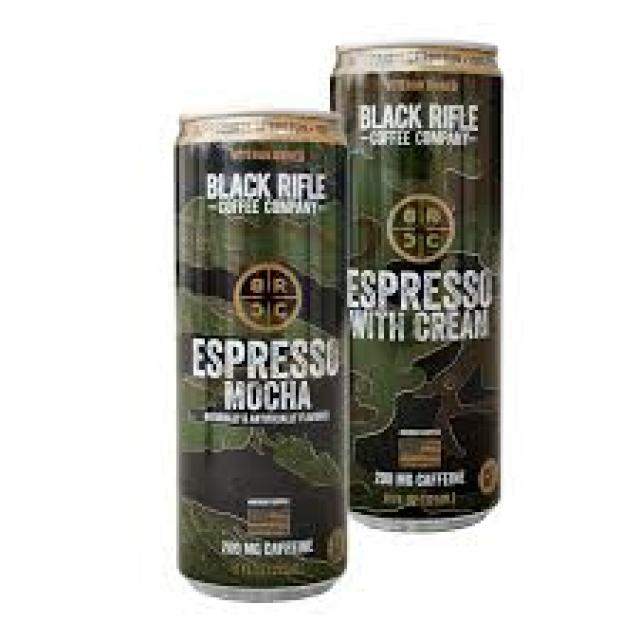Cans: (160, 102, 362, 606), (321, 29, 512, 544)
